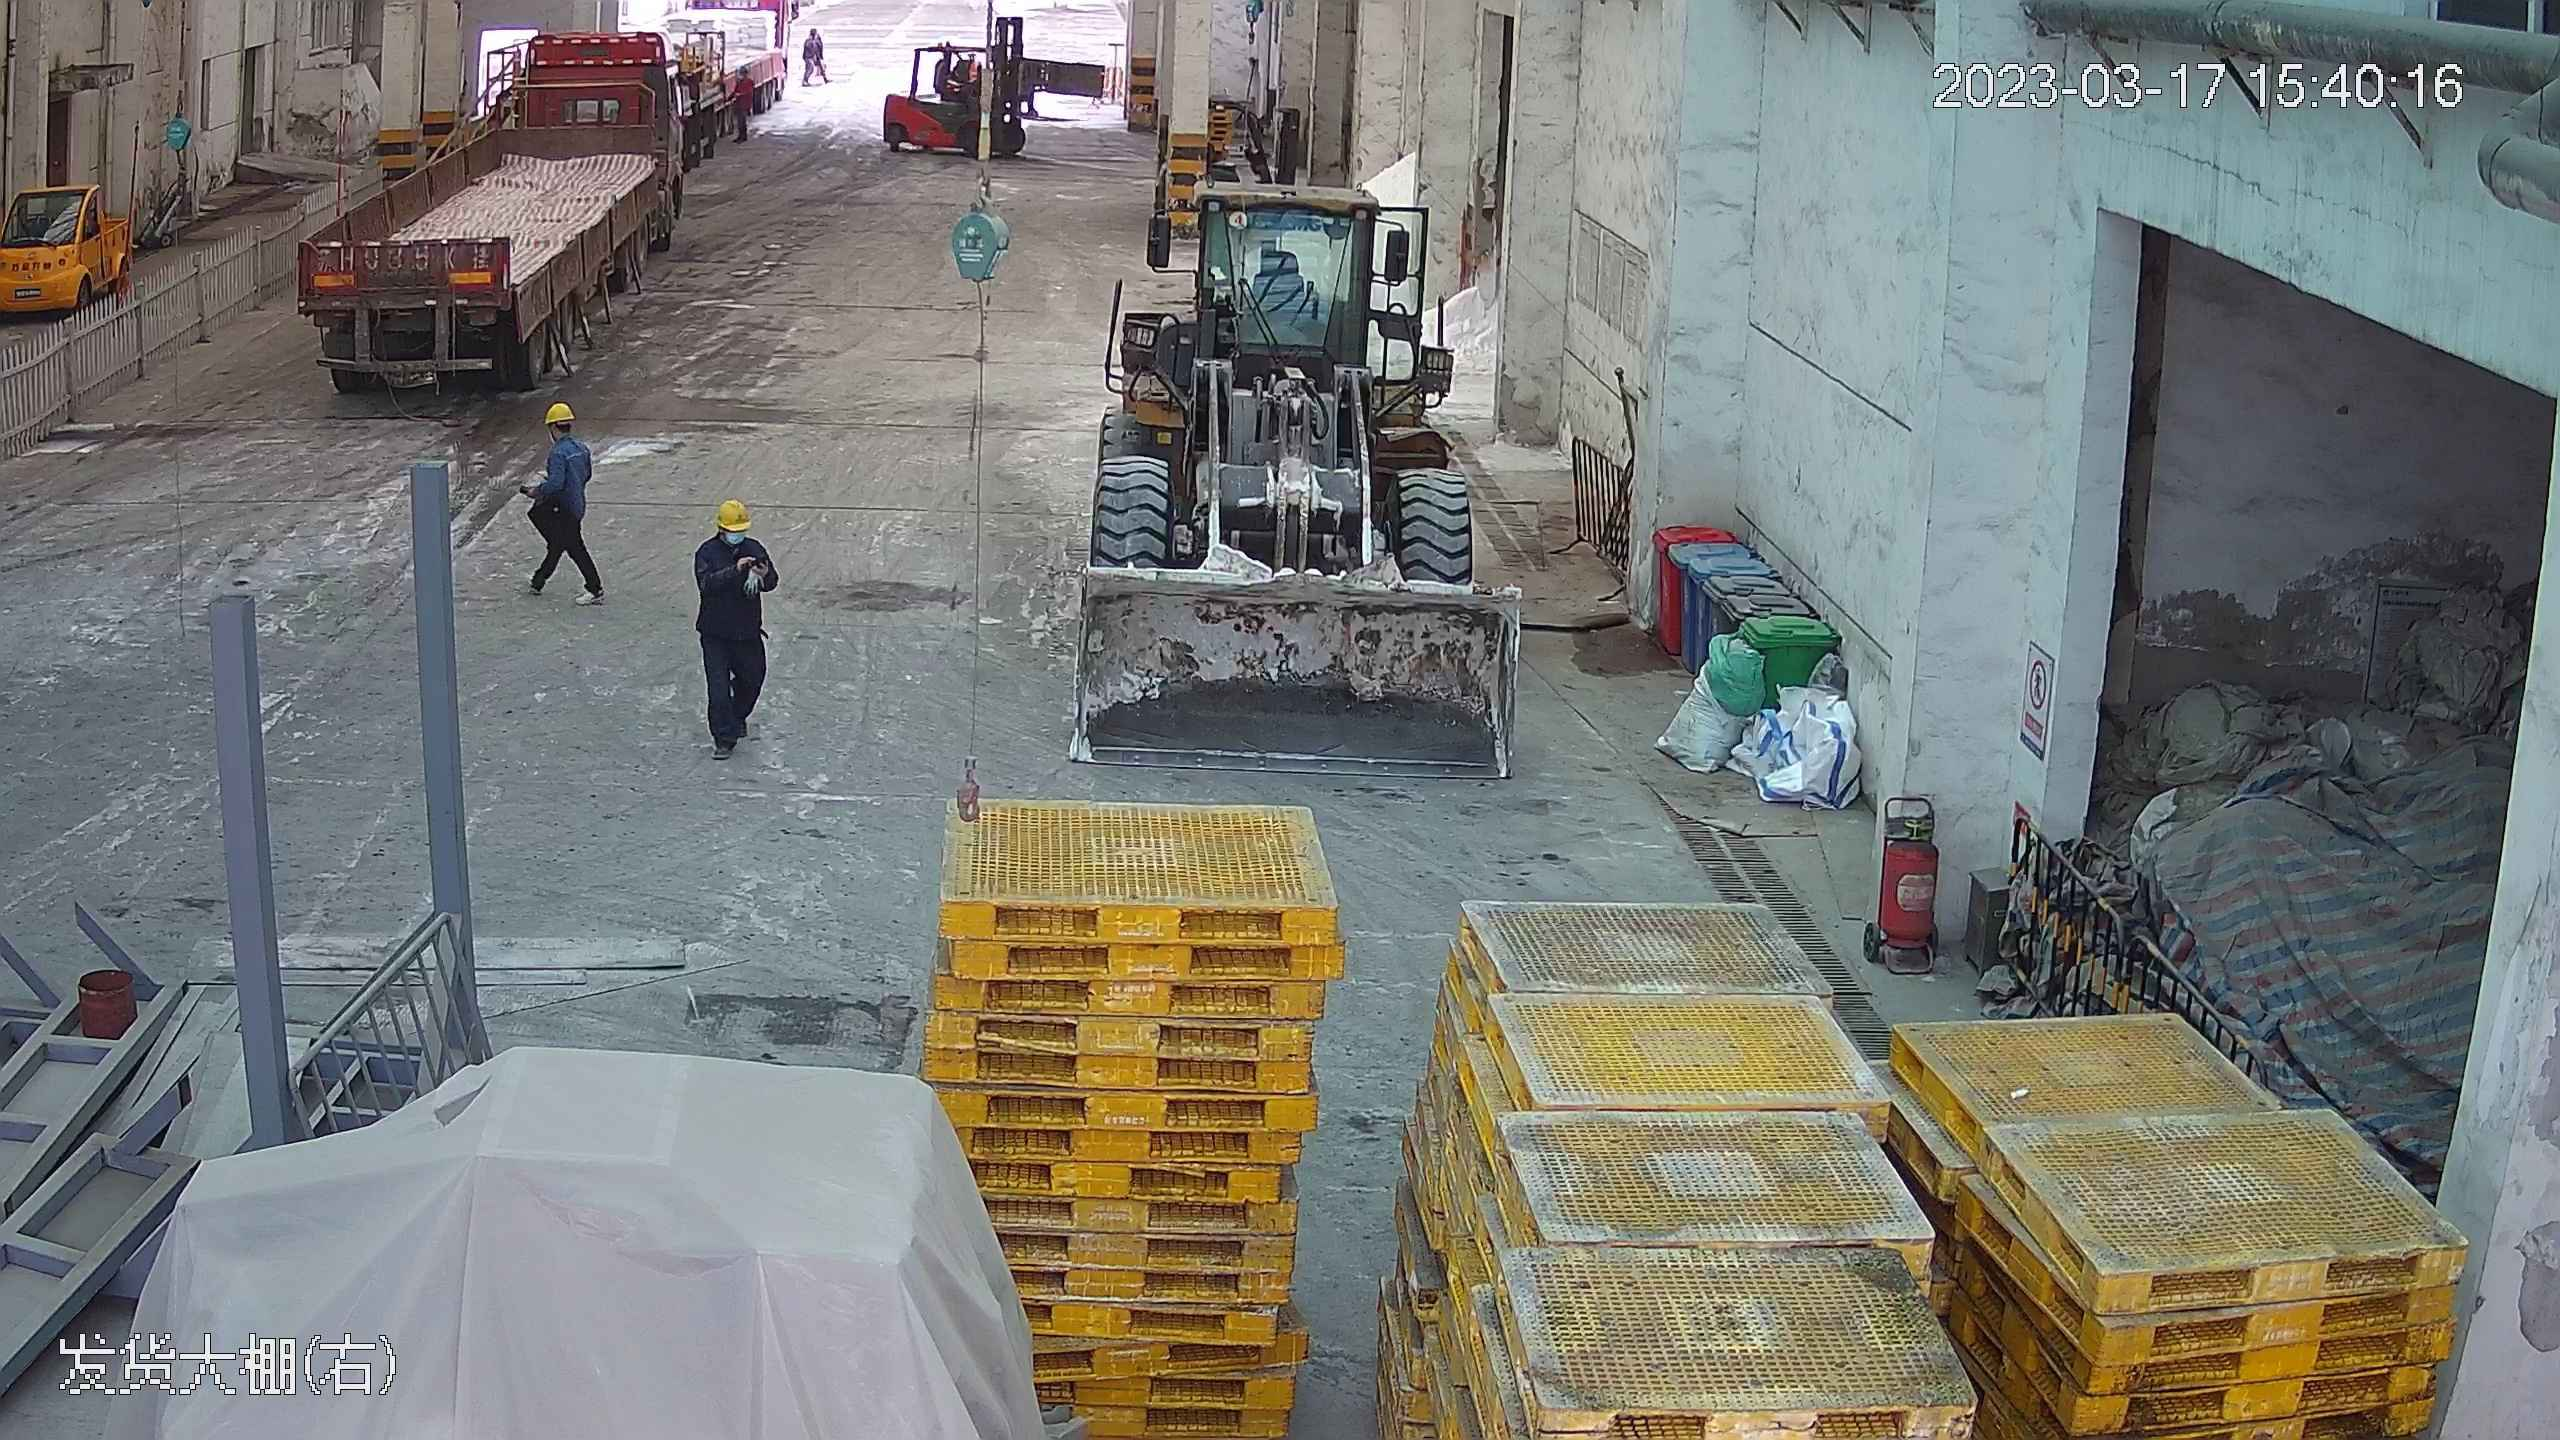head: (694, 494, 772, 578), (533, 396, 592, 469)
helmet: (712, 495, 753, 526), (542, 397, 576, 423)
people: (691, 490, 781, 758), (520, 395, 612, 608), (797, 21, 821, 89)
truck: (282, 5, 702, 408)
